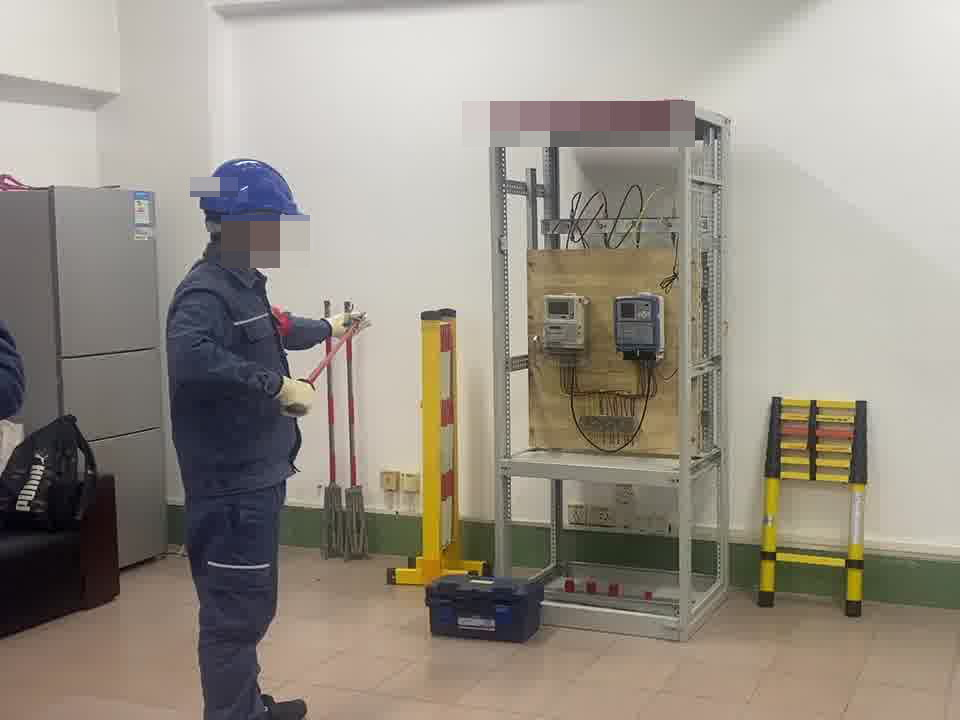downsuit: (183, 487, 293, 720)
halt: (199, 158, 304, 271)
inear: (237, 214, 275, 257)
person: (159, 155, 337, 720)
testrod: (307, 320, 356, 384)
upsuit: (166, 253, 333, 488)
wglove: (277, 376, 315, 411), (319, 308, 363, 336)
